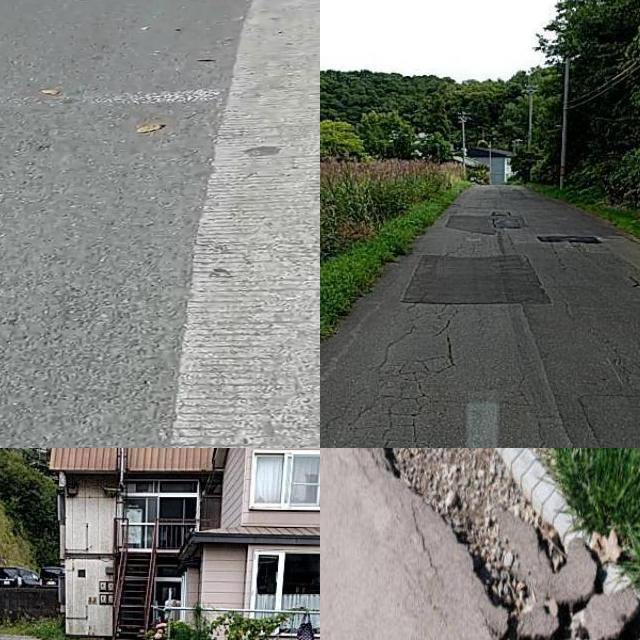Pinggir: (333, 448, 640, 640)
Sambungan: (168, 0, 320, 448), (405, 253, 551, 304)
